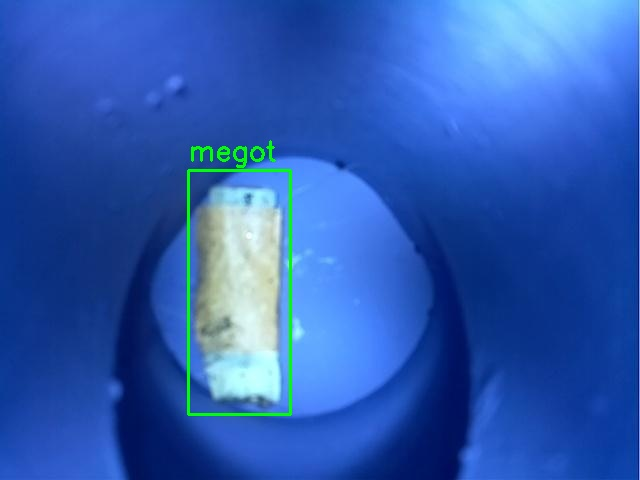megot: (188, 170, 290, 414)
